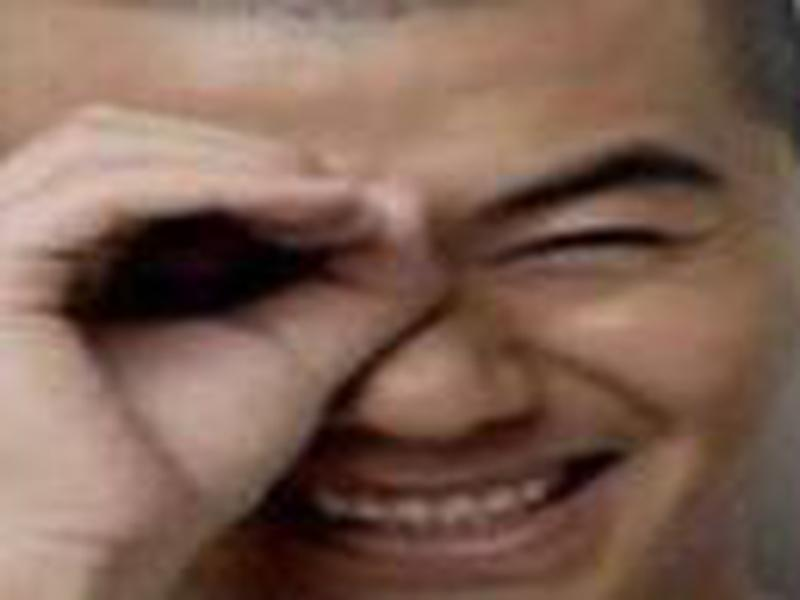without_mask: (48, 34, 770, 584)
